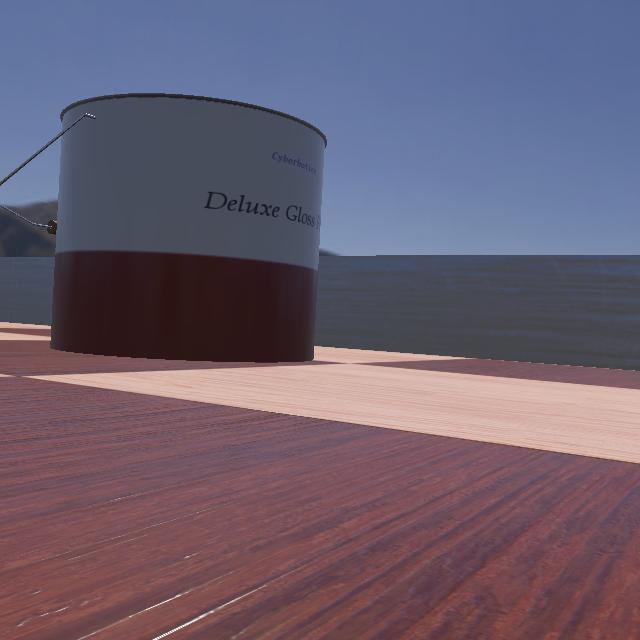paint-bucket: (1, 86, 330, 370)
